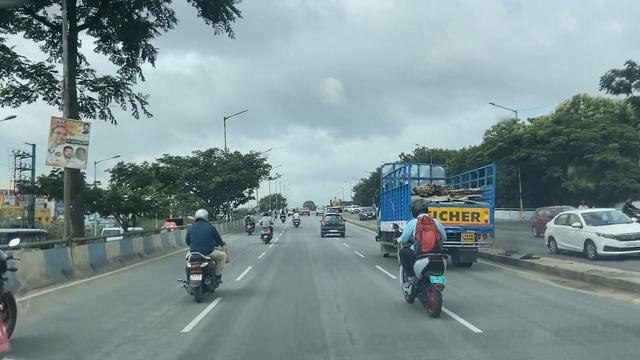LMV: (389, 206, 448, 310), (181, 210, 225, 296)
